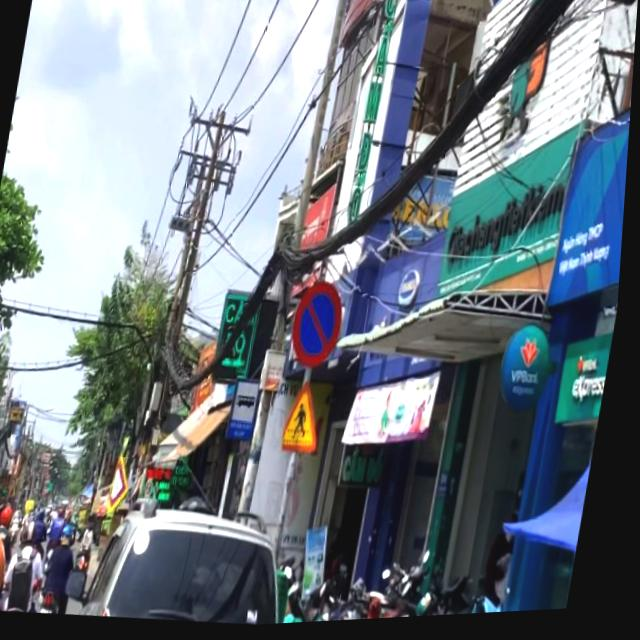Cam do xe: (290, 279, 353, 374)
Nguoi di bo cat ngang: (282, 378, 334, 464)
